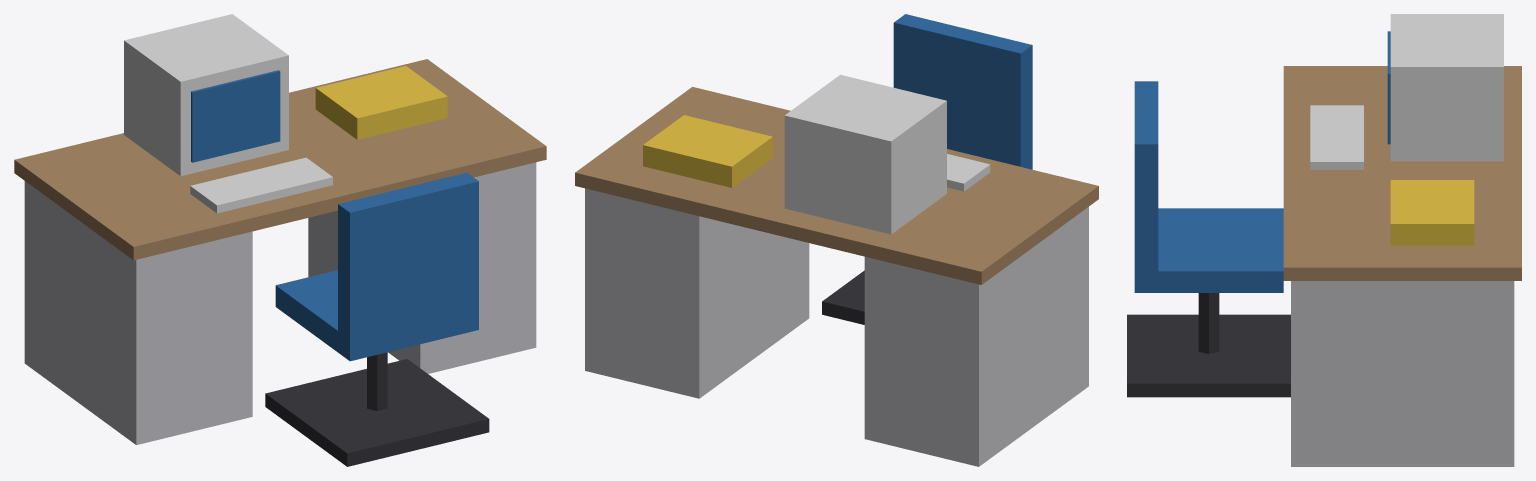
File: interior_police_desk.glb
The picture shows the model from 3 angles, left to right: view 1: azimuth 30°, elevation 25°; view 2: azimuth 150°, elevation 25°; view 3: azimuth 270°, elevation 25°; orthographic projection.
Parts seen in each view (by area): view 1: interior_police_desk; view 2: interior_police_desk; view 3: interior_police_desk.
Part boxes in pixels (x1,y1,x2,y2): interior_police_desk: (14, 14, 546, 466); interior_police_desk: (575, 14, 1098, 466); interior_police_desk: (1127, 14, 1521, 466).
Size of the model in its own units: 1.6 by 1.12 by 1.33.
1 material, 1 textured.
